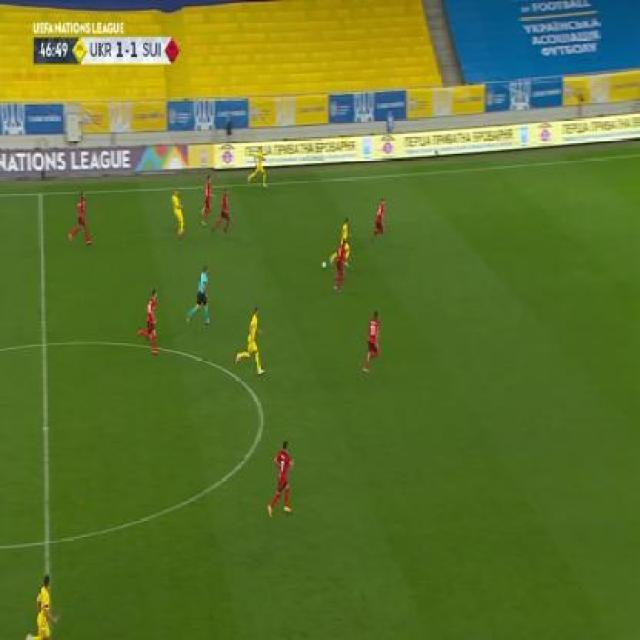ball: (321, 259, 327, 270)
player: (266, 439, 297, 519), (234, 306, 267, 377), (25, 575, 61, 640), (135, 287, 161, 358), (186, 265, 211, 328), (68, 189, 93, 246), (363, 309, 383, 374), (333, 229, 352, 294), (246, 144, 268, 189), (212, 189, 232, 235), (169, 187, 186, 238), (198, 173, 214, 227), (370, 198, 387, 240), (338, 217, 352, 251)
